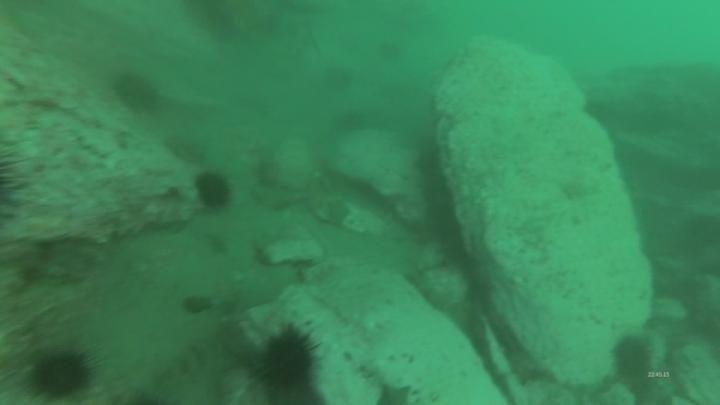echinus: (252, 322, 324, 398), (25, 345, 96, 402), (110, 69, 162, 114), (610, 334, 654, 382), (192, 169, 234, 212), (162, 131, 210, 167), (333, 107, 371, 139), (320, 63, 355, 96), (375, 38, 405, 65)
starfish: (324, 199, 357, 228), (378, 386, 410, 405)
